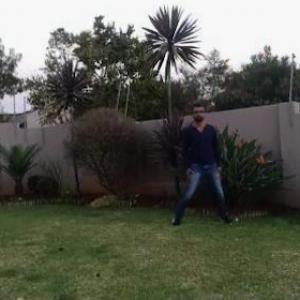follow: (182, 94, 220, 222)
